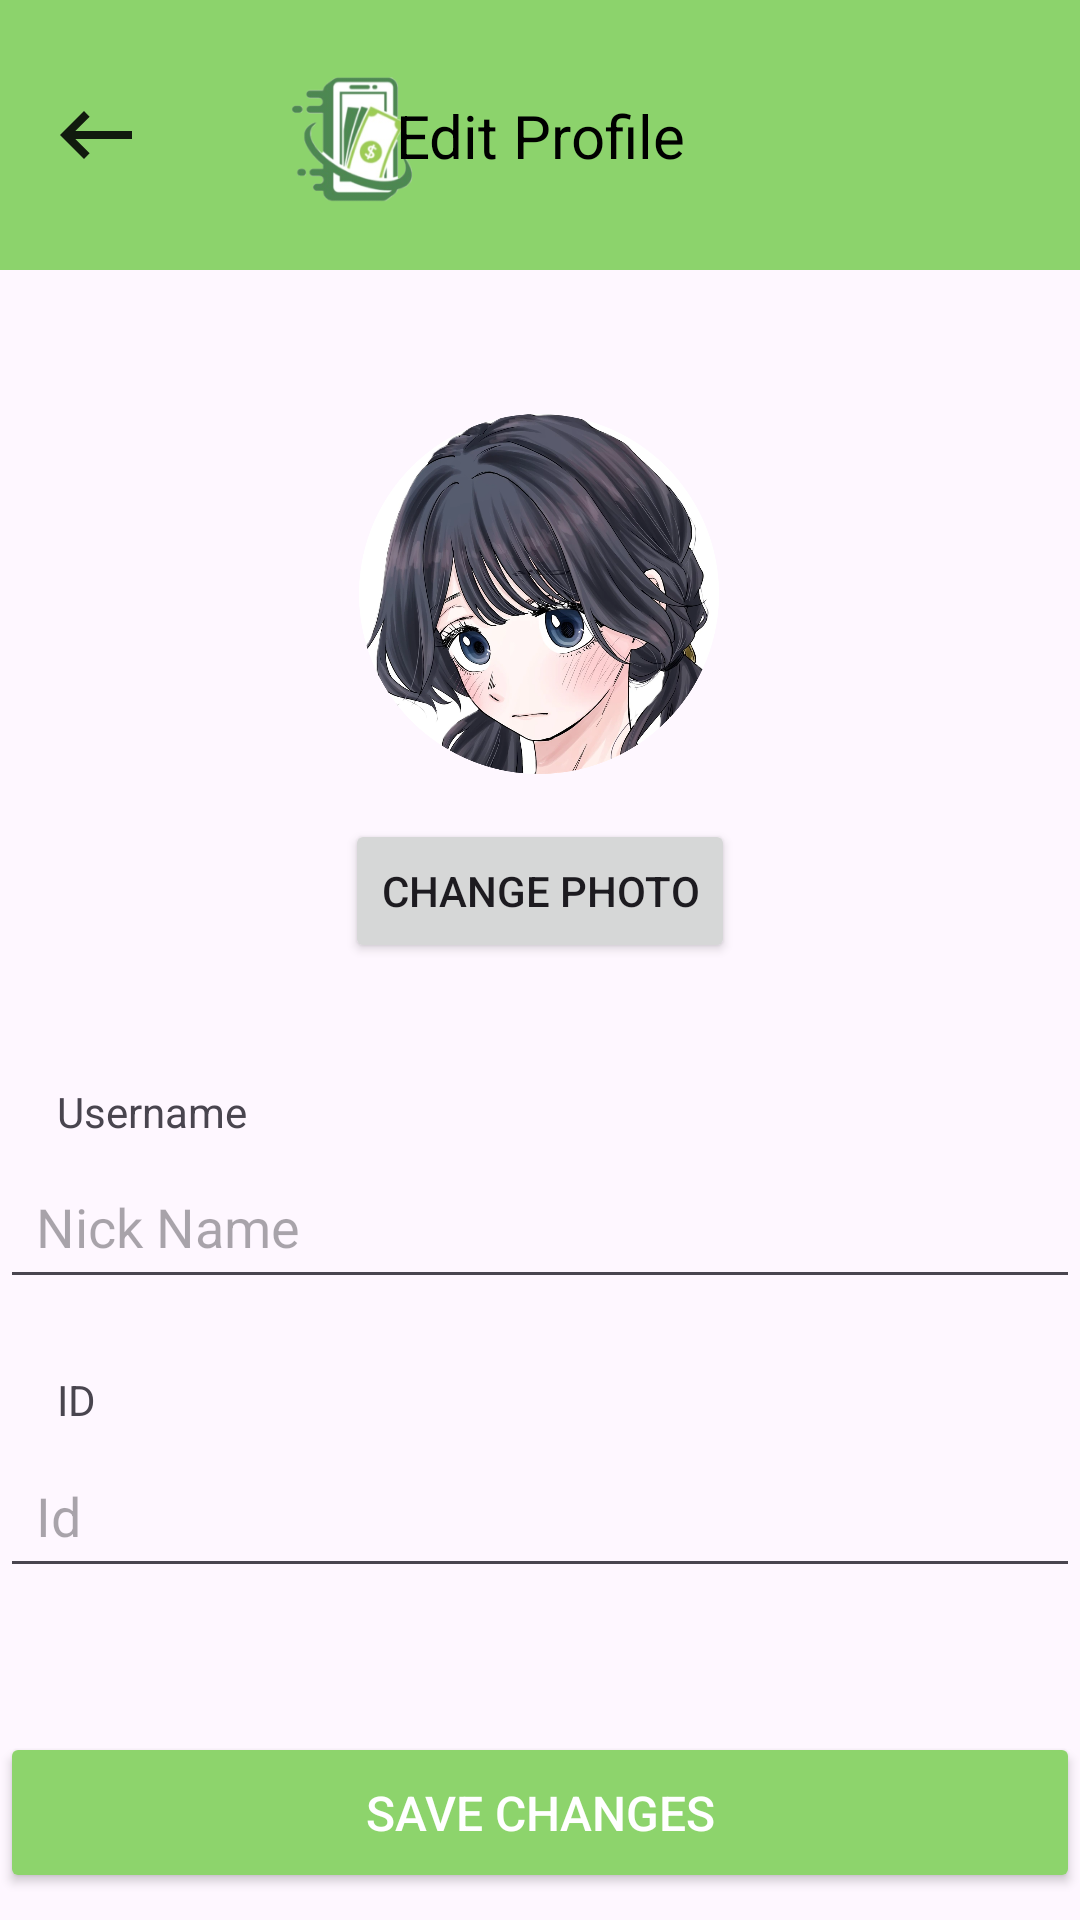

Screen size 1080*1920. Icon name, then its box in pixels as region(x1, y1, x2, y2):
Profile Image: region(366, 414, 709, 774)
Tombol Kembali: region(60, 111, 132, 159)
